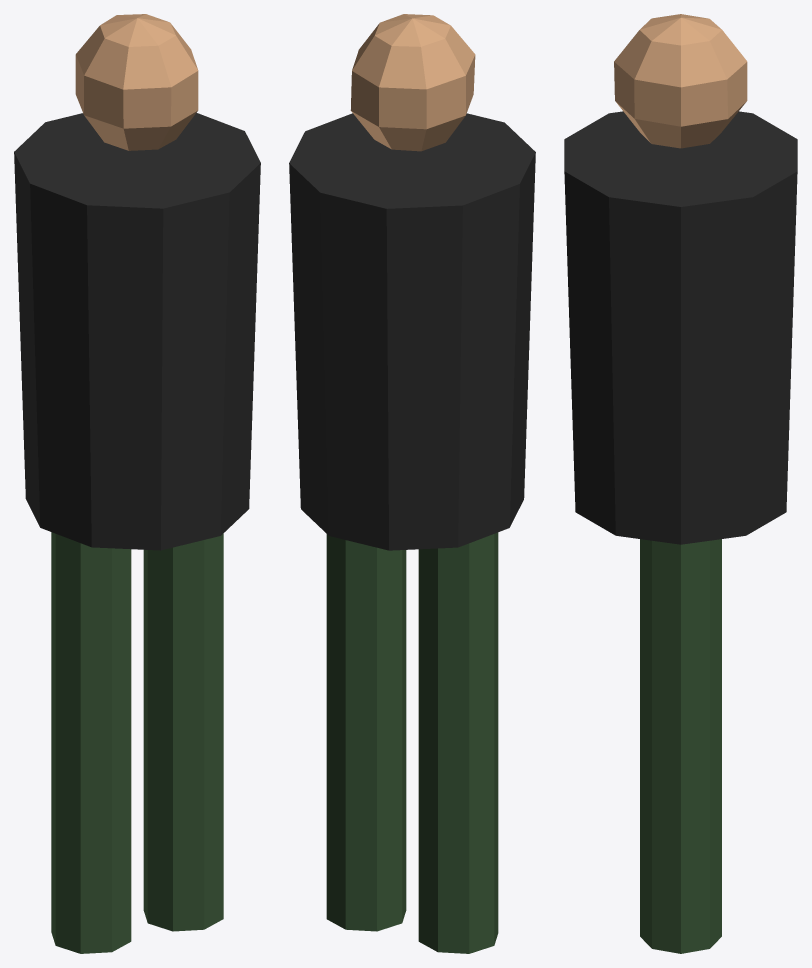
The model's file is Person5.glb.
3 views of the same model, side by side, from view 1: azimuth 30°, elevation 25°; view 2: azimuth 150°, elevation 25°; view 3: azimuth 270°, elevation 25° (orthographic).
Visible parts, largest first — view 1: Person5; view 2: Person5; view 3: Person5.
Boxes of the visible parts, left/top/right/bottom form: Person5: left=14, top=14, right=260, bottom=953; Person5: left=289, top=14, right=535, bottom=953; Person5: left=564, top=14, right=797, bottom=953.
Size of the model in its own units: 0.42 by 1.7 by 0.3994.
